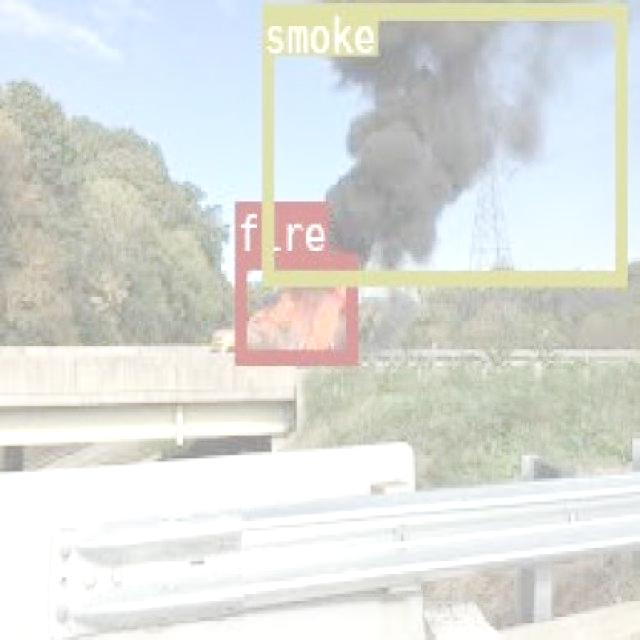fire: (232, 252, 356, 361)
smoke: (261, 2, 624, 282)
